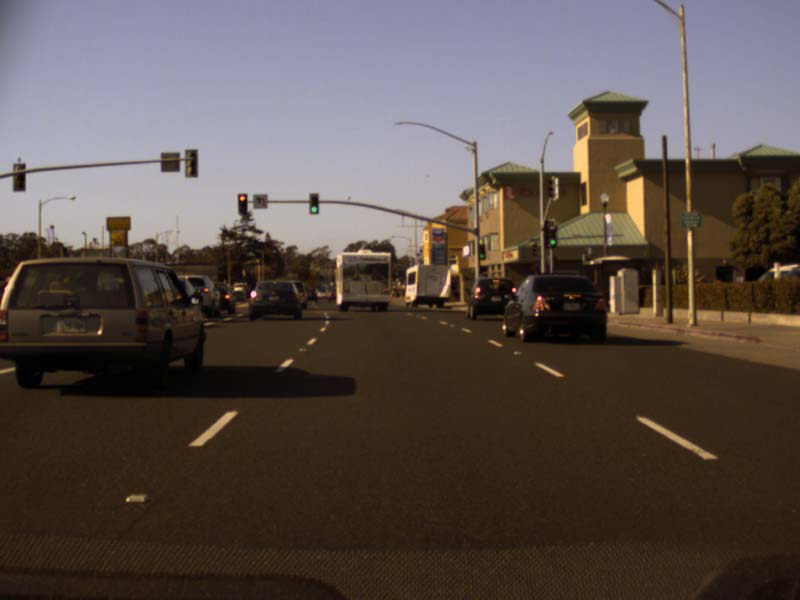Green: (309, 193, 318, 214), (547, 226, 556, 246), (478, 244, 484, 258)
Red: (237, 193, 247, 213)
